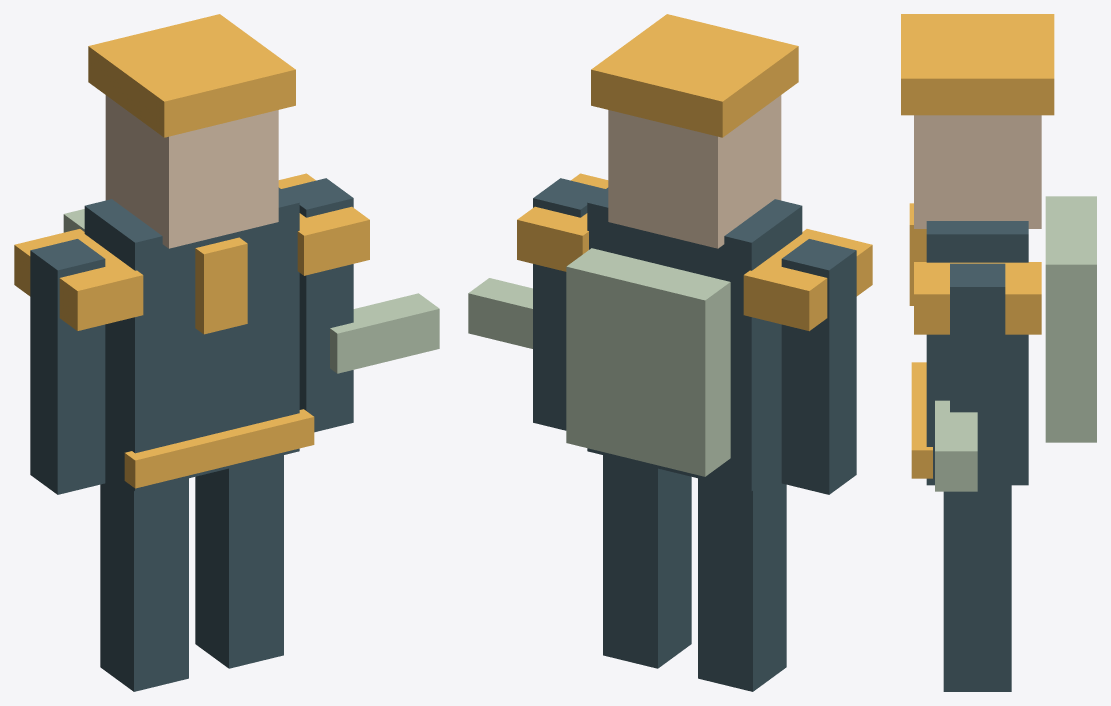
Rendered from 19_makoa_riftwalker_mechanist_under_recovery.glb.
The picture shows the model from 3 angles, left to right: view 1: azimuth 30°, elevation 25°; view 2: azimuth 150°, elevation 25°; view 3: azimuth 270°, elevation 25°; orthographic projection.
Parts seen in each view (by area): view 1: Makoa Riftwalker, Mechanist under Recovery; view 2: Makoa Riftwalker, Mechanist under Recovery; view 3: Makoa Riftwalker, Mechanist under Recovery.
Part boxes in pixels (x1,y1,x2,y2): Makoa Riftwalker, Mechanist under Recovery: (14,14,439,691); Makoa Riftwalker, Mechanist under Recovery: (468,14,872,691); Makoa Riftwalker, Mechanist under Recovery: (901,14,1096,691).
Size of the model in its own units: 0.999 by 1.54 by 0.4483.
